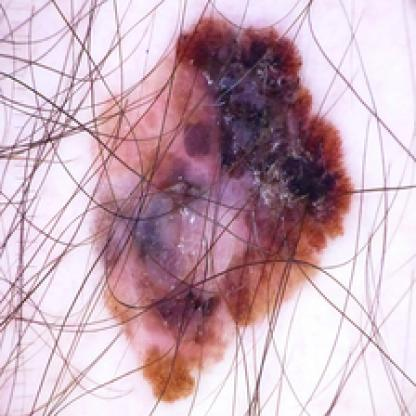Skin_Cancer-Malignant: (91, 17, 354, 400)
